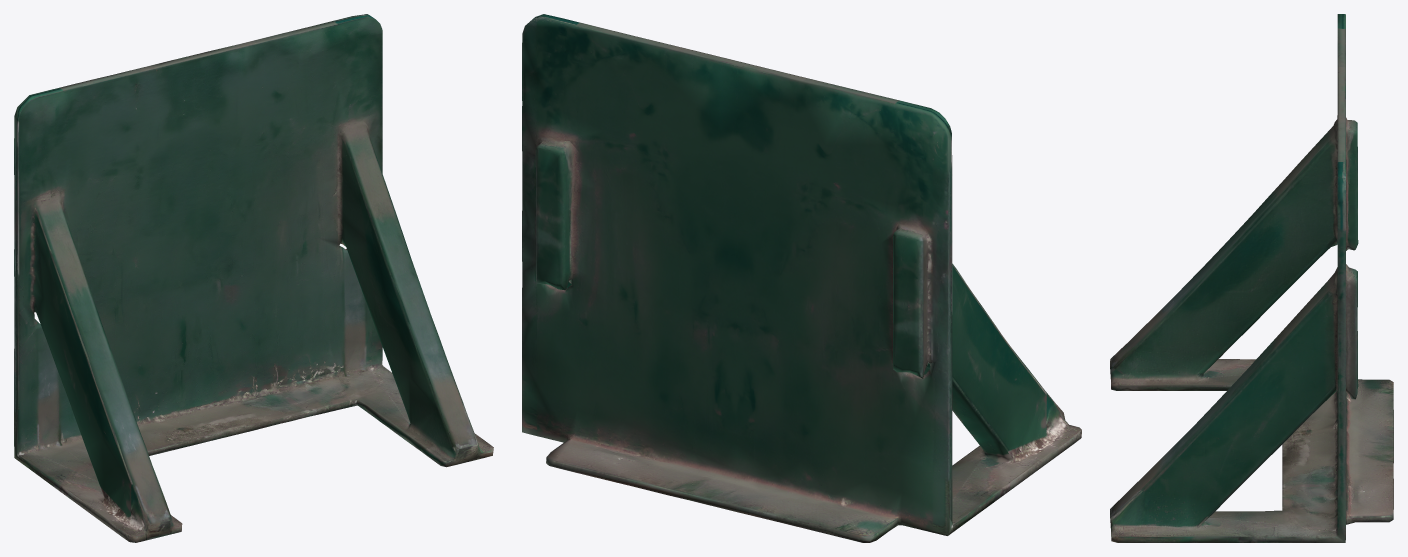
Rendered from Stop.glb.
3 renders of one model, left to right at view 1: azimuth 30°, elevation 25°; view 2: azimuth 150°, elevation 25°; view 3: azimuth 270°, elevation 25°, orthographic. The views are drawn at different scales.
Visible parts, largest first — view 1: Mesh_0; view 2: Mesh_0; view 3: Mesh_0.
Part boxes in pixels (<box>): Mesh_0: <box>14,14,493,542</box>; Mesh_0: <box>522,14,1081,542</box>; Mesh_0: <box>1110,14,1393,542</box>.
Bounding box in the file's own units: 1.91 × 1.8 × 1.29.
Materials: 1 (1 with a texture image).
